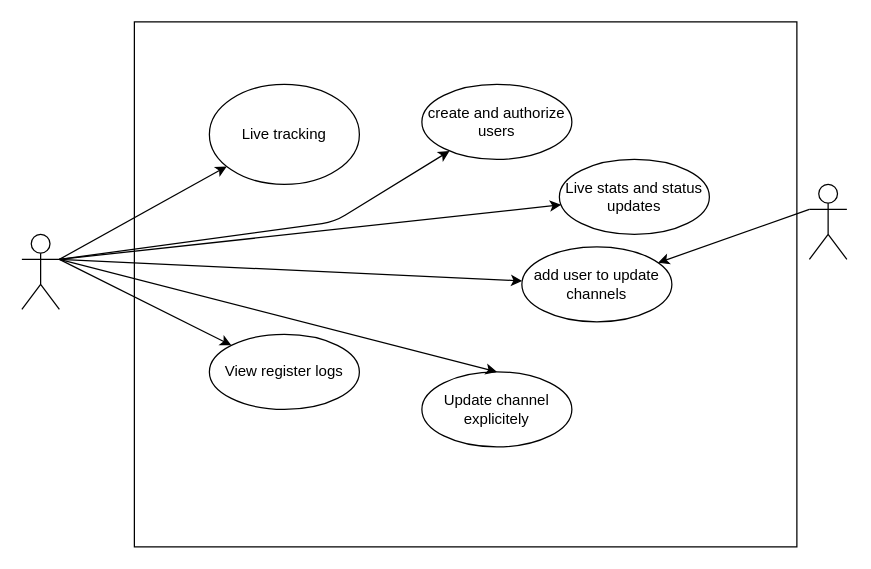
The diagram is 871 pixels wide and 569 high, and some of its shapes have lost their labels. Here are the shapes that lost their labels. From the top down, the centre of each, then its label:
the point at 827,221: Admin
the point at 40,271: User
